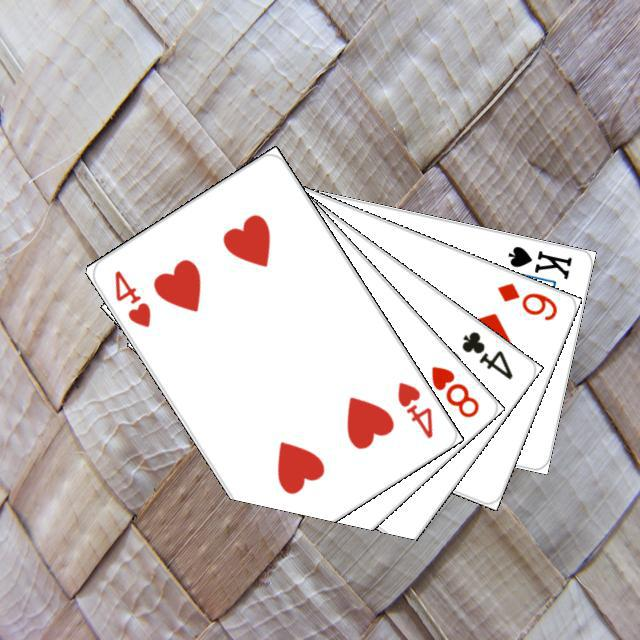4c: (456, 326, 515, 382)
4h: (109, 265, 153, 329), (392, 377, 435, 440)
6d: (492, 277, 559, 323)
8h: (425, 361, 481, 420)
Ks: (503, 241, 574, 281)
